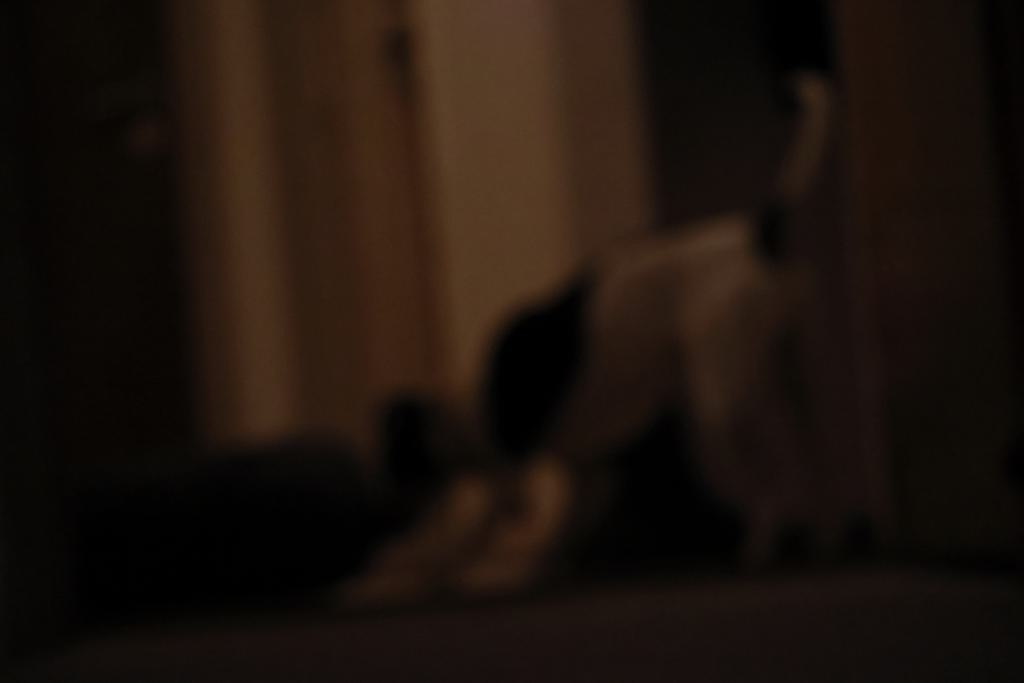Dog: (347, 62, 862, 609)
